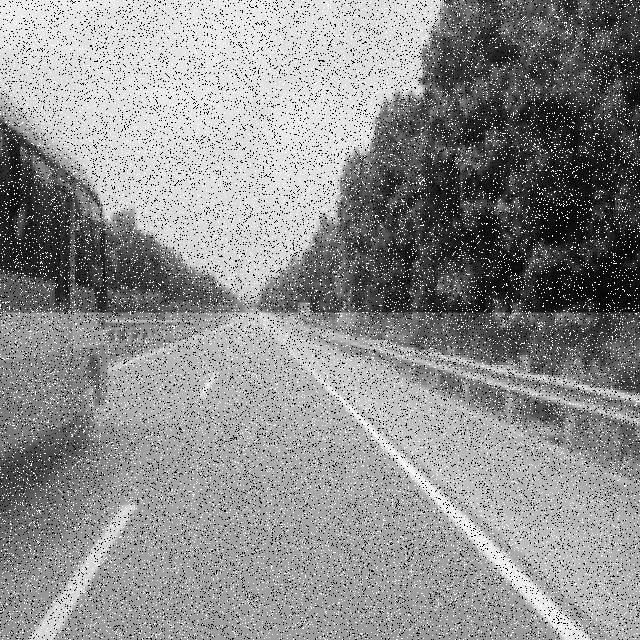clear-road: (0, 313, 640, 640)
